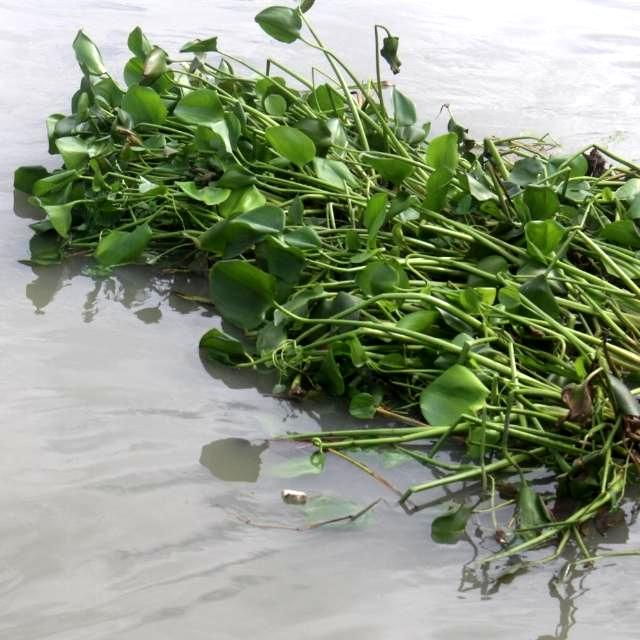water-hyacinth: (13, 1, 640, 620)
